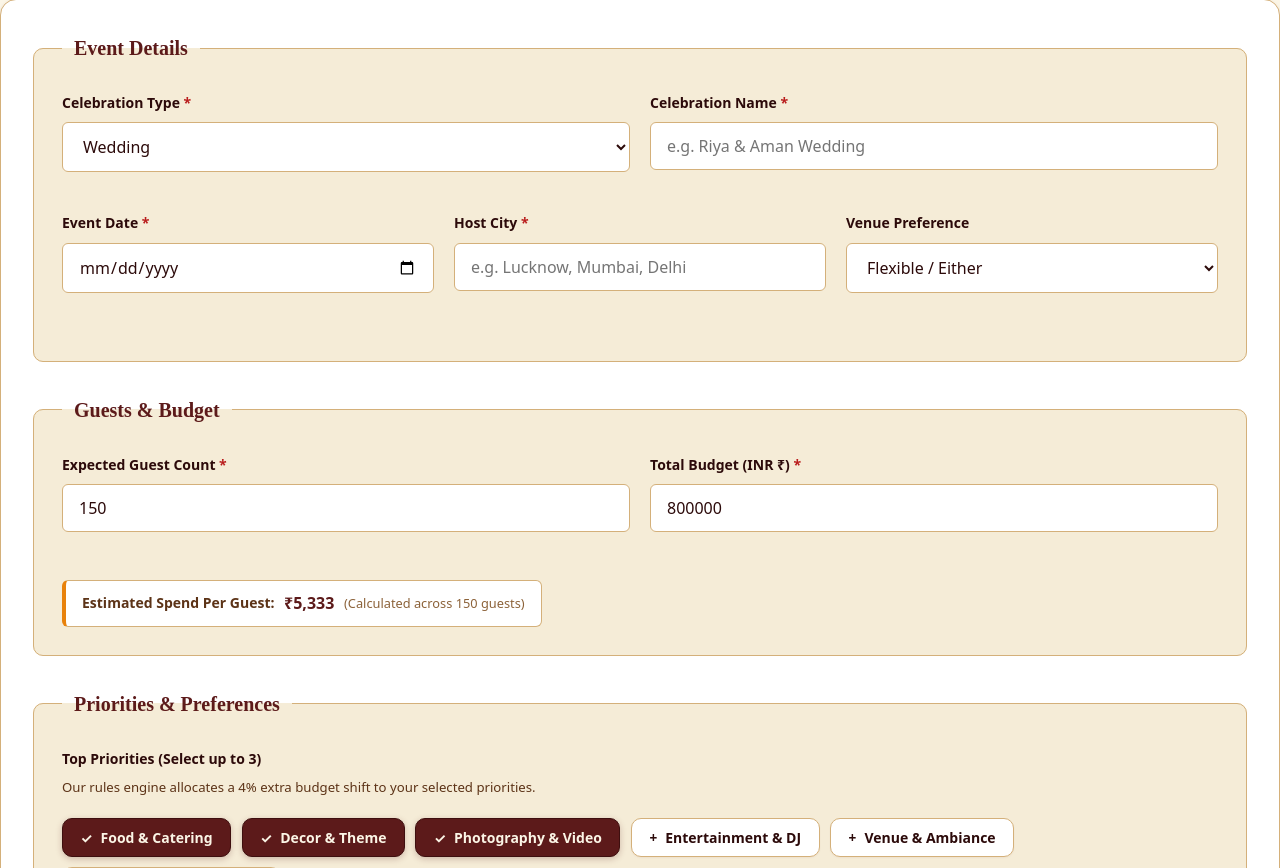
EventForm Component (EventForm.jsx) › limits top priorities selection to a maximum of 3
// Try to click a 4th priority (Entertainment)
Step 1. Click the button "+ Entertainment & DJ" → (725, 837), box [631,818,820,857]
(page scrolled)
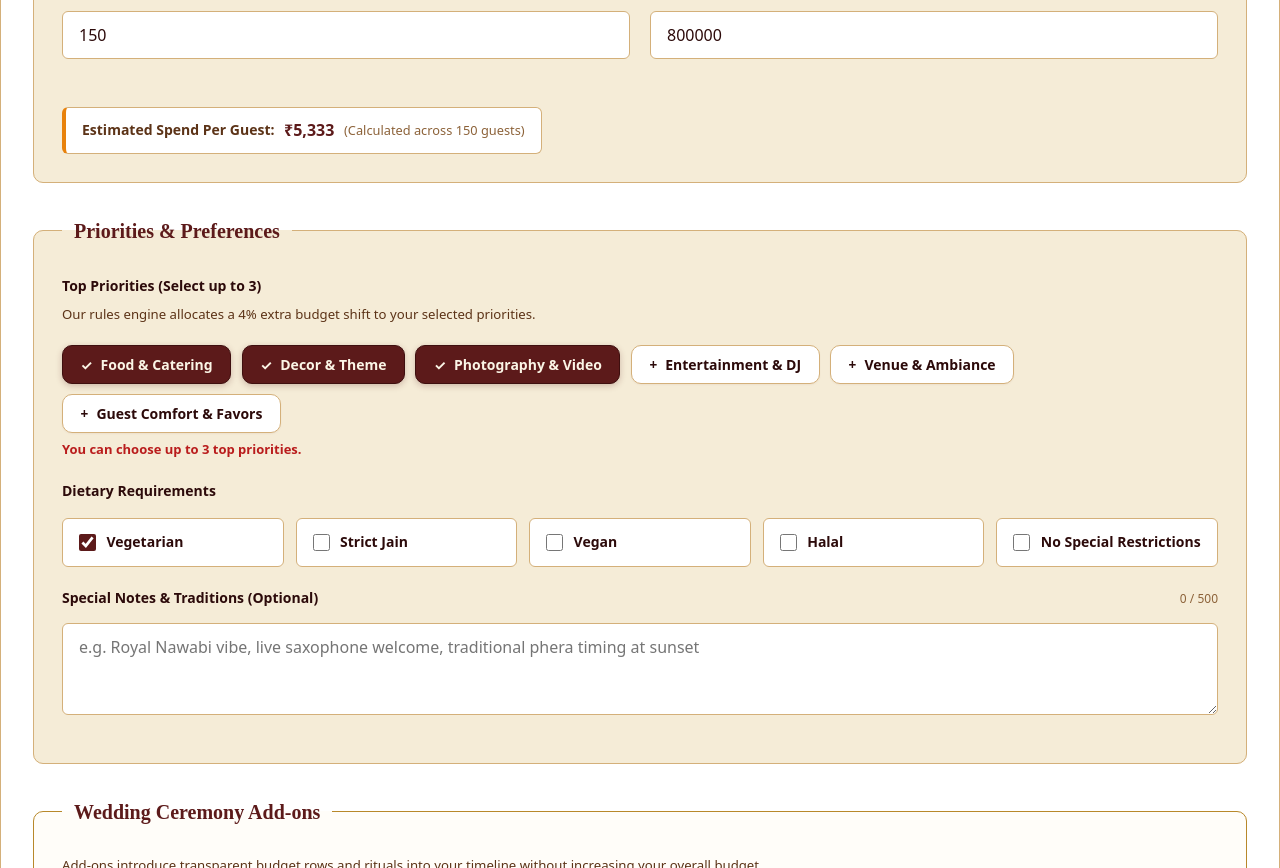
Expected: the text "You can choose up to 3 top priorities." is shown, [62,440,302,458]
